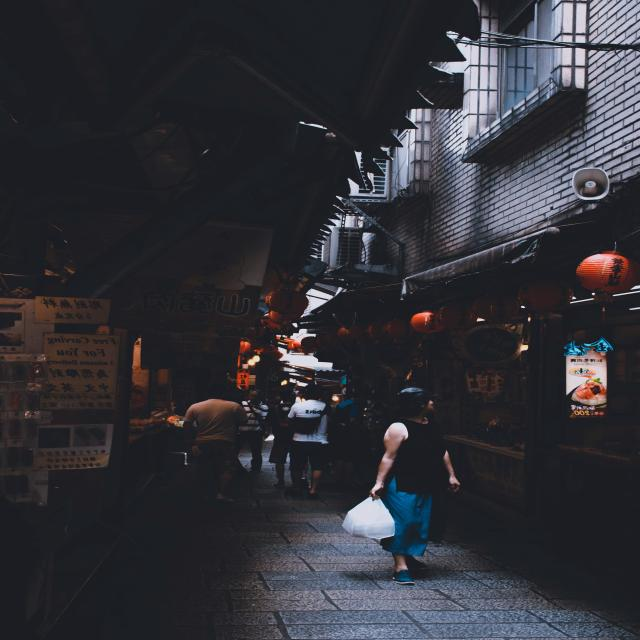adult: (366, 387, 465, 586)
